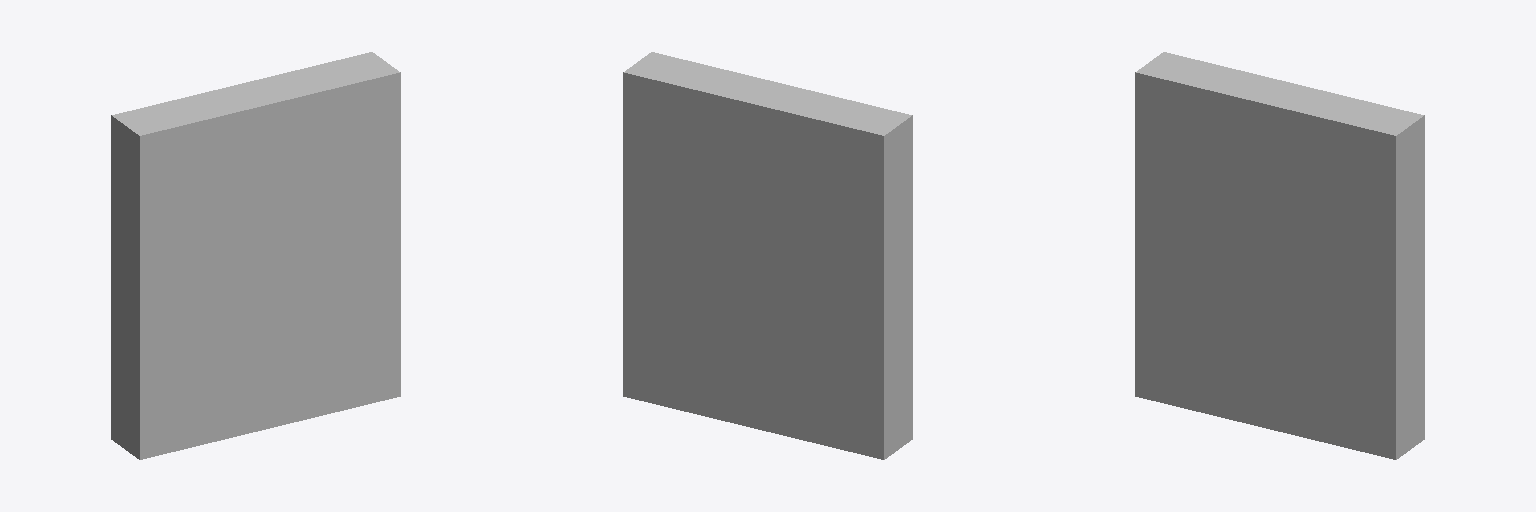
File: wall.obj
3 views of the same model, side by side, from view 1: azimuth 30°, elevation 25°; view 2: azimuth 150°, elevation 25°; view 3: azimuth 330°, elevation 25° (orthographic).
Parts seen in each view (by area): view 1: object 1; view 2: object 1; view 3: object 1.
Boxes of the visible parts, x1,y1,x2,y2 form: object 1: [111, 52, 400, 459]; object 1: [623, 52, 912, 459]; object 1: [1135, 52, 1424, 459].
Size of the model in its own units: 1.6 by 1.9 by 0.3.